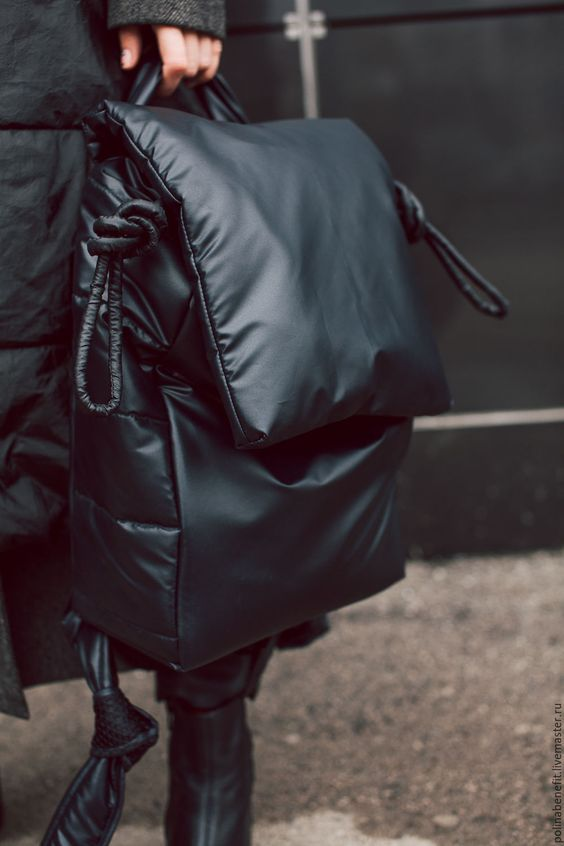cuero: (64, 69, 452, 846)
